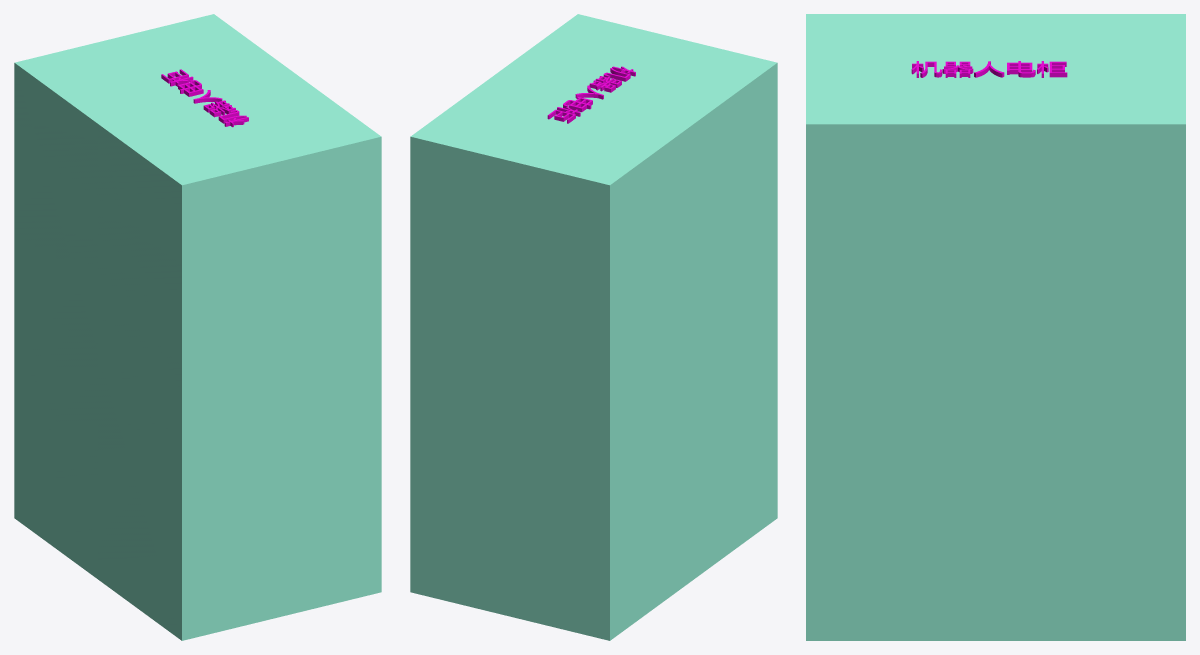
File: 机器人电柜.fbx
The picture shows the model from 3 angles, left to right: view 1: azimuth 30°, elevation 25°; view 2: azimuth 150°, elevation 25°; view 3: azimuth 270°, elevation 25°; orthographic projection. The views are drawn at different scales.
Size of the model in its own units: 0.000868 by 0.00191 by 0.00126.
